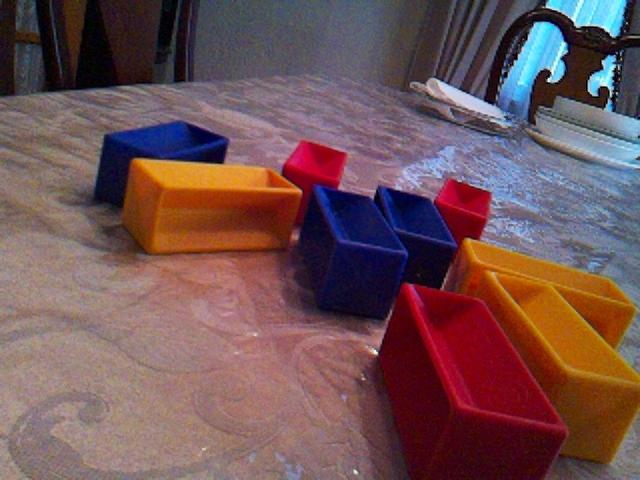blue: (298, 183, 410, 320), (93, 118, 231, 207), (373, 183, 459, 288)
red: (377, 280, 569, 480), (281, 138, 349, 225), (433, 176, 493, 245)
yellow: (474, 270, 640, 465), (452, 236, 638, 351), (121, 156, 303, 256)
